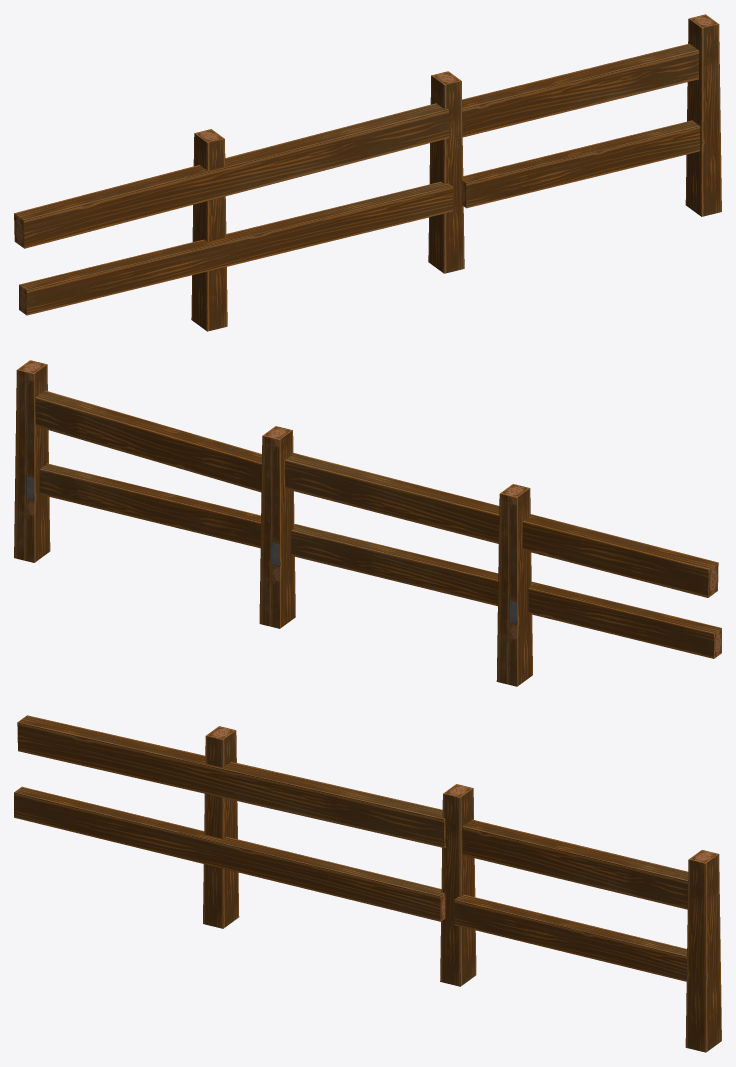
3 views of the same model, one above another, from view 1: azimuth 30°, elevation 25°; view 2: azimuth 150°, elevation 25°; view 3: azimuth 330°, elevation 25° (orthographic).
Parts seen in each view (by area): view 1: Cube.968; view 2: Cube.968; view 3: Cube.968.
Boxes of the visible parts, <box> form: Cube.968: <box>14,14,721,331</box>; Cube.968: <box>14,360,721,686</box>; Cube.968: <box>14,715,721,1052</box>.
Size of the model in its own units: 510 by 132 by 28.03.
1 material, 1 textured.
